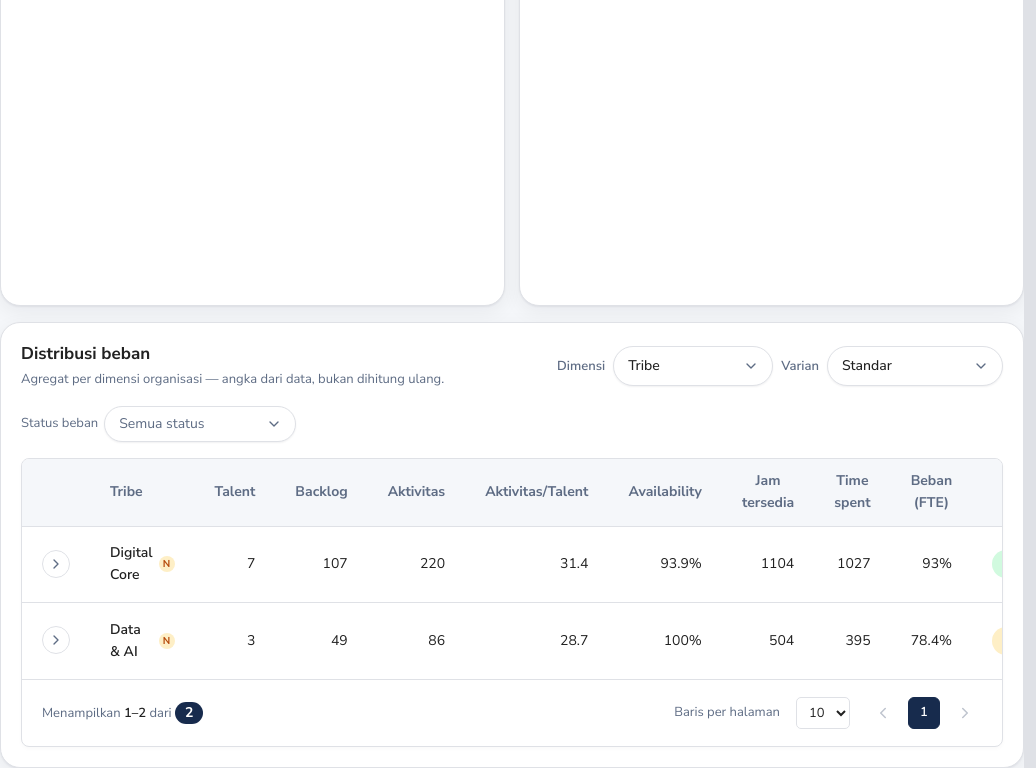
it: ExecutiveReportView — KPI, chart & distribusi dari data (TAN-229/230/231) › drills a tribe row down to its constituent talents
(page scrolled)
Expected: the heading "Distribusi beban" is shown, [21,342,150,365]
Click the button named "Lihat talent Digital Core": x=56, y=564 [42,550,70,578]
(page scrolled)
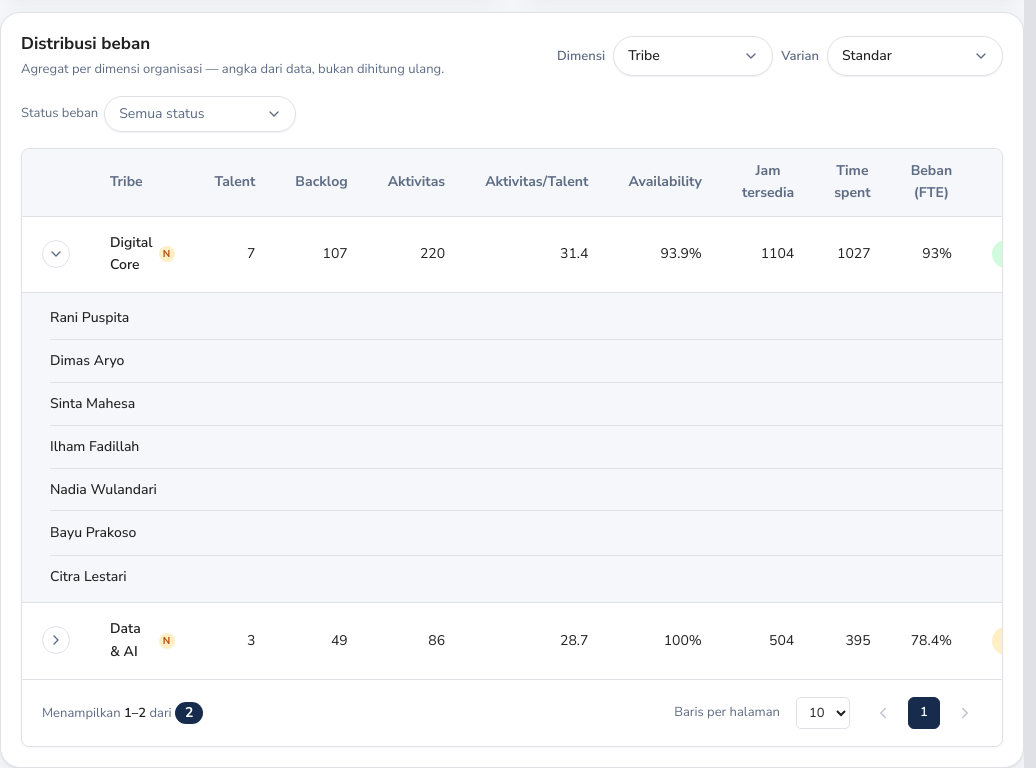
Now the text "Rani Puspita" is shown, box [50,308,129,328]
Now the text "Citra Lestari" is shown, box [50,567,127,587]
